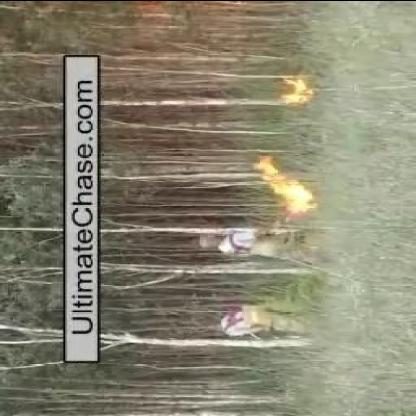foggia-v2-map80-epoch100 - v1 4323: (276, 180, 316, 212), (284, 78, 316, 104)
